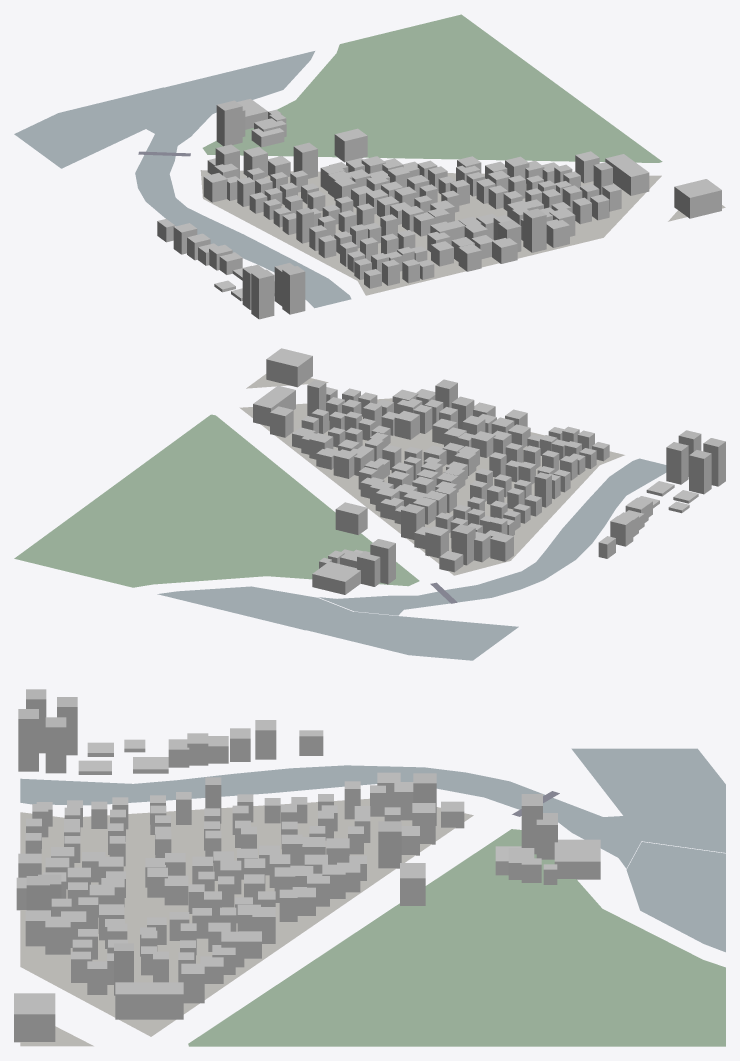
File: 122_75_mid.glb
The picture shows the model from 3 angles, top to bottom: view 1: azimuth 30°, elevation 25°; view 2: azimuth 150°, elevation 25°; view 3: azimuth 270°, elevation 25°; orthographic projection. The views are drawn at different scales.
Bounding box in the file's own units: 507 × 43.5 × 504.
